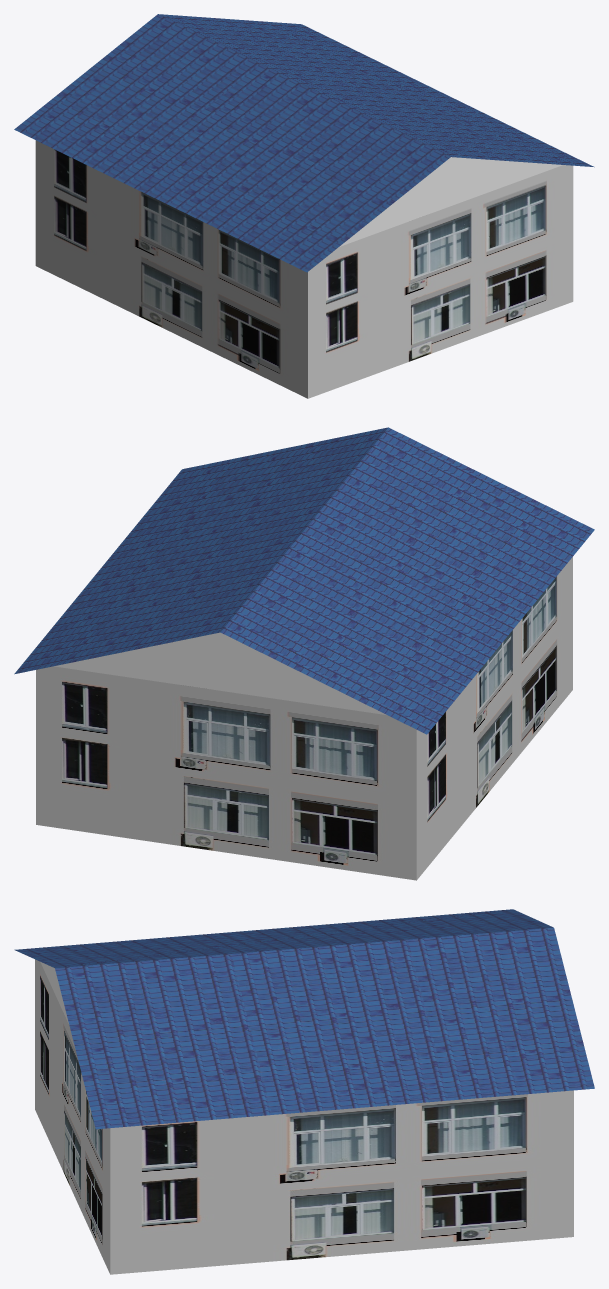
3 renders of one model, top to bottom at view 1: azimuth 30°, elevation 25°; view 2: azimuth 150°, elevation 25°; view 3: azimuth 270°, elevation 25°, orthographic. The views are drawn at different scales.
Visible parts, largest first — view 1: CityEngineMaterial_10_m, CityEngineMaterial_9_m, CityEngineMaterial_3_m; view 2: CityEngineMaterial_10_m, CityEngineMaterial_9_m, CityEngineMaterial_3_m; view 3: CityEngineMaterial_10_m, CityEngineMaterial_9_m.
Part boxes in pixels (x1,y1,x2,y2): CityEngineMaterial_10_m: [14, 14, 594, 272]; CityEngineMaterial_9_m: [35, 140, 573, 398]; CityEngineMaterial_3_m: [339, 157, 562, 246]; CityEngineMaterial_10_m: [14, 427, 594, 734]; CityEngineMaterial_9_m: [36, 557, 572, 880]; CityEngineMaterial_3_m: [54, 632, 386, 714]; CityEngineMaterial_10_m: [14, 909, 594, 1129]; CityEngineMaterial_9_m: [35, 959, 573, 1274].
Size of the model in its own units: 28.97 by 13.82 by 32.31.
